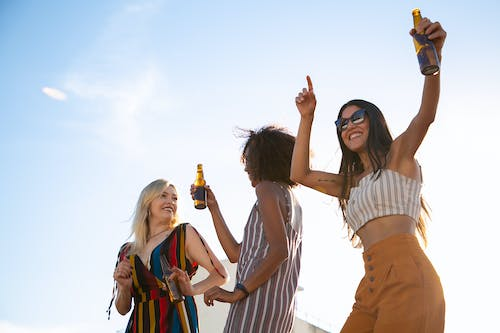alcohol: (411, 7, 442, 77), (157, 254, 186, 305), (191, 163, 208, 211)
